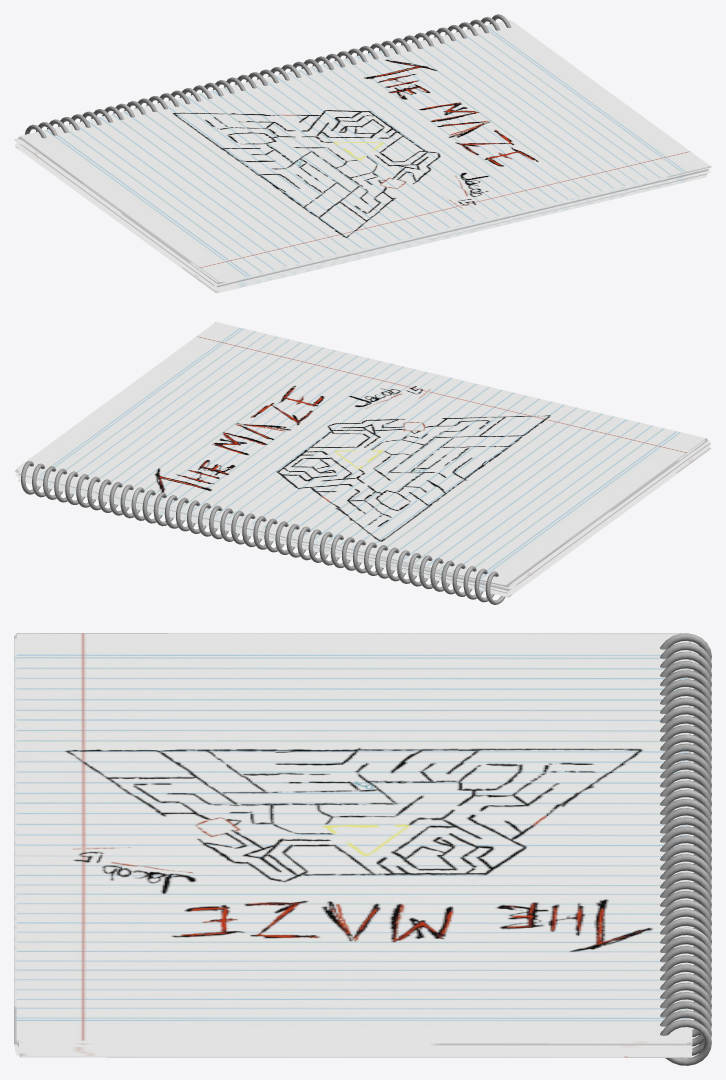
The model's file is notebookMap.fbx.
The picture shows the model from 3 angles, top to bottom: view 1: azimuth 30°, elevation 25°; view 2: azimuth 150°, elevation 25°; view 3: azimuth 270°, elevation 25°; orthographic projection. The views are drawn at different scales.
Visible parts, largest first — view 1: SM_notebook_papers.137, SM_spirals_main.003, SM_notebook_papers.111, SM_notebook_papers.105, SM_notebook_papers.120, SM_notebook_papers.128, SM_notebook_papers.116, SM_notebook_papers.136, SM_notebook_papers.118, SM_notebook_papers.110, SM_notebook_papers.138, SM_notebook_papers.129 (+6 smaller); view 2: SM_notebook_papers.137, SM_spirals_main.003, SM_notebook_papers.133, SM_notebook_papers.139, SM_notebook_papers.116, SM_notebook_papers.134, SM_notebook_papers.108, SM_notebook_papers.129, SM_notebook_papers.123, SM_notebook_papers.119, SM_notebook_papers.109, SM_notebook_papers.107 (+2 smaller); view 3: SM_notebook_papers.137, SM_spirals_main.003, SM_notebook_papers.105, SM_notebook_papers.122, SM_notebook_papers.107, SM_notebook_papers.132, SM_notebook_papers.119, SM_notebook_papers.131, SM_notebook_papers.109.
Boxes of the visible parts, x1,y1,x2,y2 form: SM_notebook_papers.137: [19, 20, 708, 282]; SM_spirals_main.003: [25, 14, 511, 138]; SM_notebook_papers.111: [16, 146, 705, 292]; SM_notebook_papers.105: [220, 21, 711, 283]; SM_notebook_papers.120: [15, 142, 705, 288]; SM_notebook_papers.128: [216, 169, 707, 286]; SM_notebook_papers.116: [15, 144, 704, 290]; SM_notebook_papers.136: [17, 138, 706, 284]; SM_notebook_papers.118: [216, 172, 706, 289]; SM_notebook_papers.110: [216, 176, 706, 293]; SM_notebook_papers.138: [219, 168, 709, 284]; SM_notebook_papers.129: [15, 139, 218, 285]; SM_notebook_papers.137: [17, 322, 706, 584]; SM_spirals_main.003: [21, 461, 505, 604]; SM_notebook_papers.133: [18, 440, 707, 587]; SM_notebook_papers.139: [18, 439, 707, 585]; SM_notebook_papers.116: [26, 446, 710, 593]; SM_notebook_papers.134: [20, 443, 709, 589]; SM_notebook_papers.108: [19, 478, 510, 595]; SM_notebook_papers.129: [505, 441, 710, 588]; SM_notebook_papers.123: [19, 474, 509, 590]; SM_notebook_papers.119: [15, 473, 505, 591]; SM_notebook_papers.109: [18, 480, 508, 597]; SM_notebook_papers.107: [18, 478, 508, 596]; SM_notebook_papers.137: [16, 633, 689, 1040]; SM_spirals_main.003: [660, 633, 711, 1065]; SM_notebook_papers.105: [14, 635, 686, 1043]; SM_notebook_papers.122: [16, 1047, 688, 1051]; SM_notebook_papers.107: [19, 1053, 691, 1056]; SM_notebook_papers.132: [19, 641, 691, 1045]; SM_notebook_papers.119: [17, 1047, 690, 1053]; SM_notebook_papers.131: [19, 1043, 691, 1047]; SM_notebook_papers.109: [19, 1056, 691, 1057].
Size of the model in its own units: 30.08 by 1.9 by 21.8.
